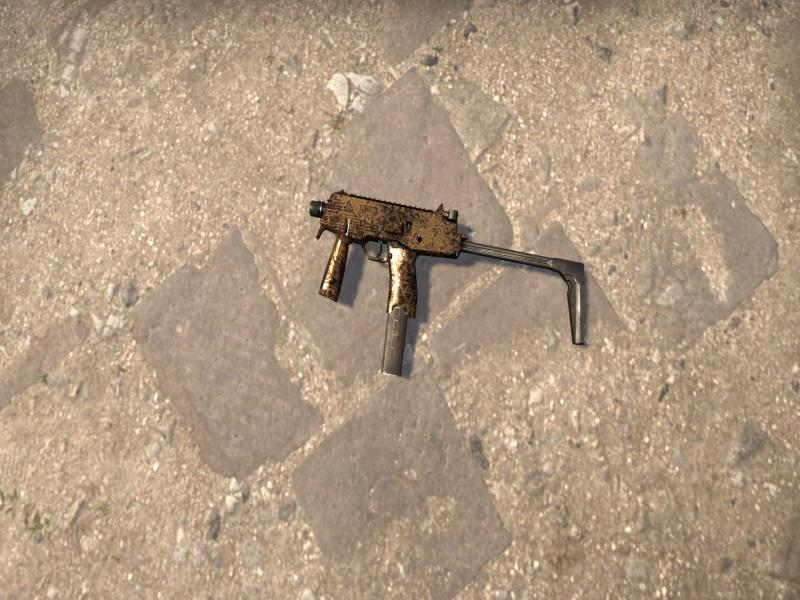MP9: (310, 189, 586, 375)
